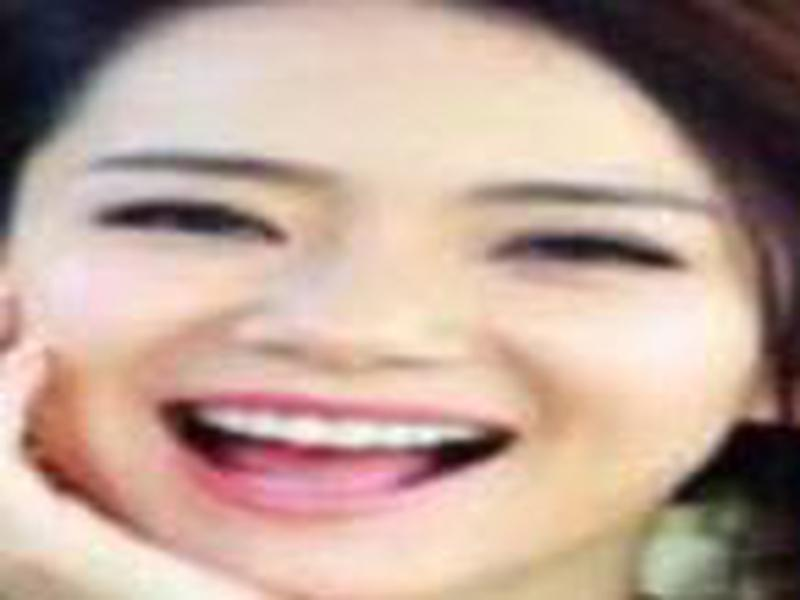without_mask: (34, 44, 731, 591)
